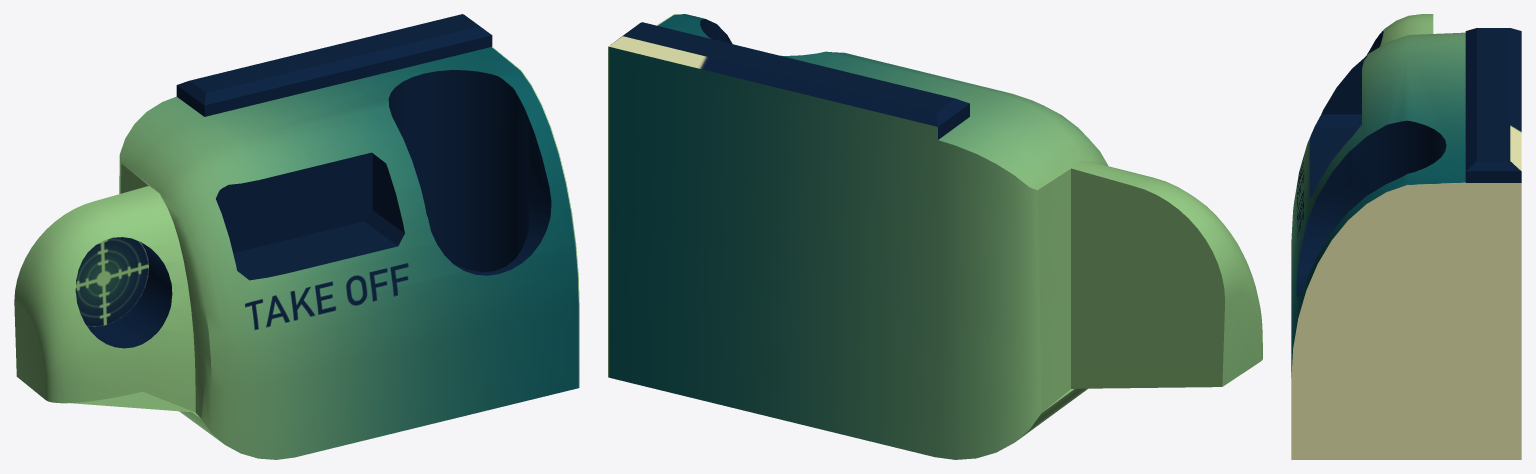
Rendered from CustomerSlot.fbx.
3 renders of one model, left to right at view 1: azimuth 30°, elevation 25°; view 2: azimuth 150°, elevation 25°; view 3: azimuth 270°, elevation 25°, orthographic. The views are drawn at different scales.
Parts seen in each view (by area): view 1: CustomerSlot; view 2: CustomerSlot; view 3: CustomerSlot.
Part boxes in pixels (x1=…): CustomerSlot: x1=14, y1=14, x2=579, y2=459; CustomerSlot: x1=608, y1=14, x2=1262, y2=459; CustomerSlot: x1=1291, y1=14, x2=1521, y2=459.
Bounding box in the file's own units: 350 × 200 × 141.
